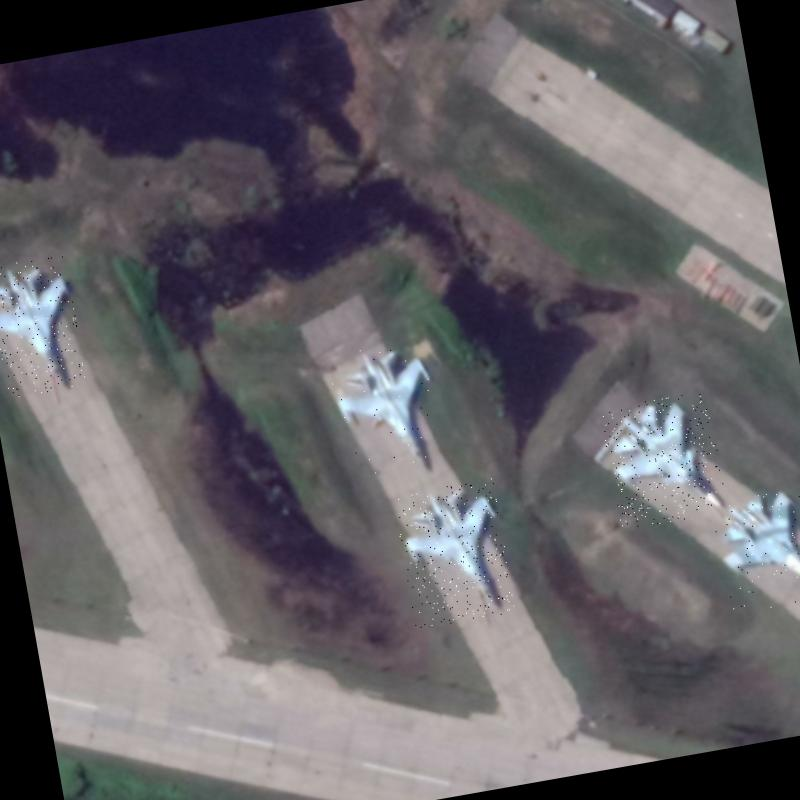A1: (392, 478, 516, 630), (325, 338, 450, 486), (0, 254, 88, 401), (708, 480, 800, 618)
A19: (599, 390, 728, 531)
